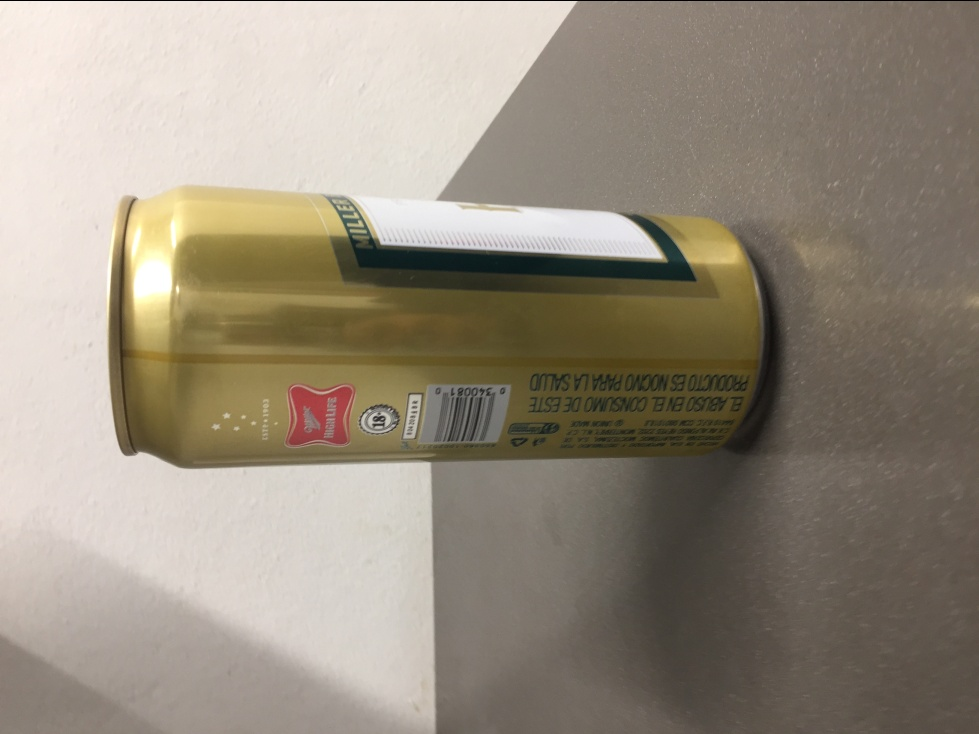miller: (102, 177, 776, 468)
